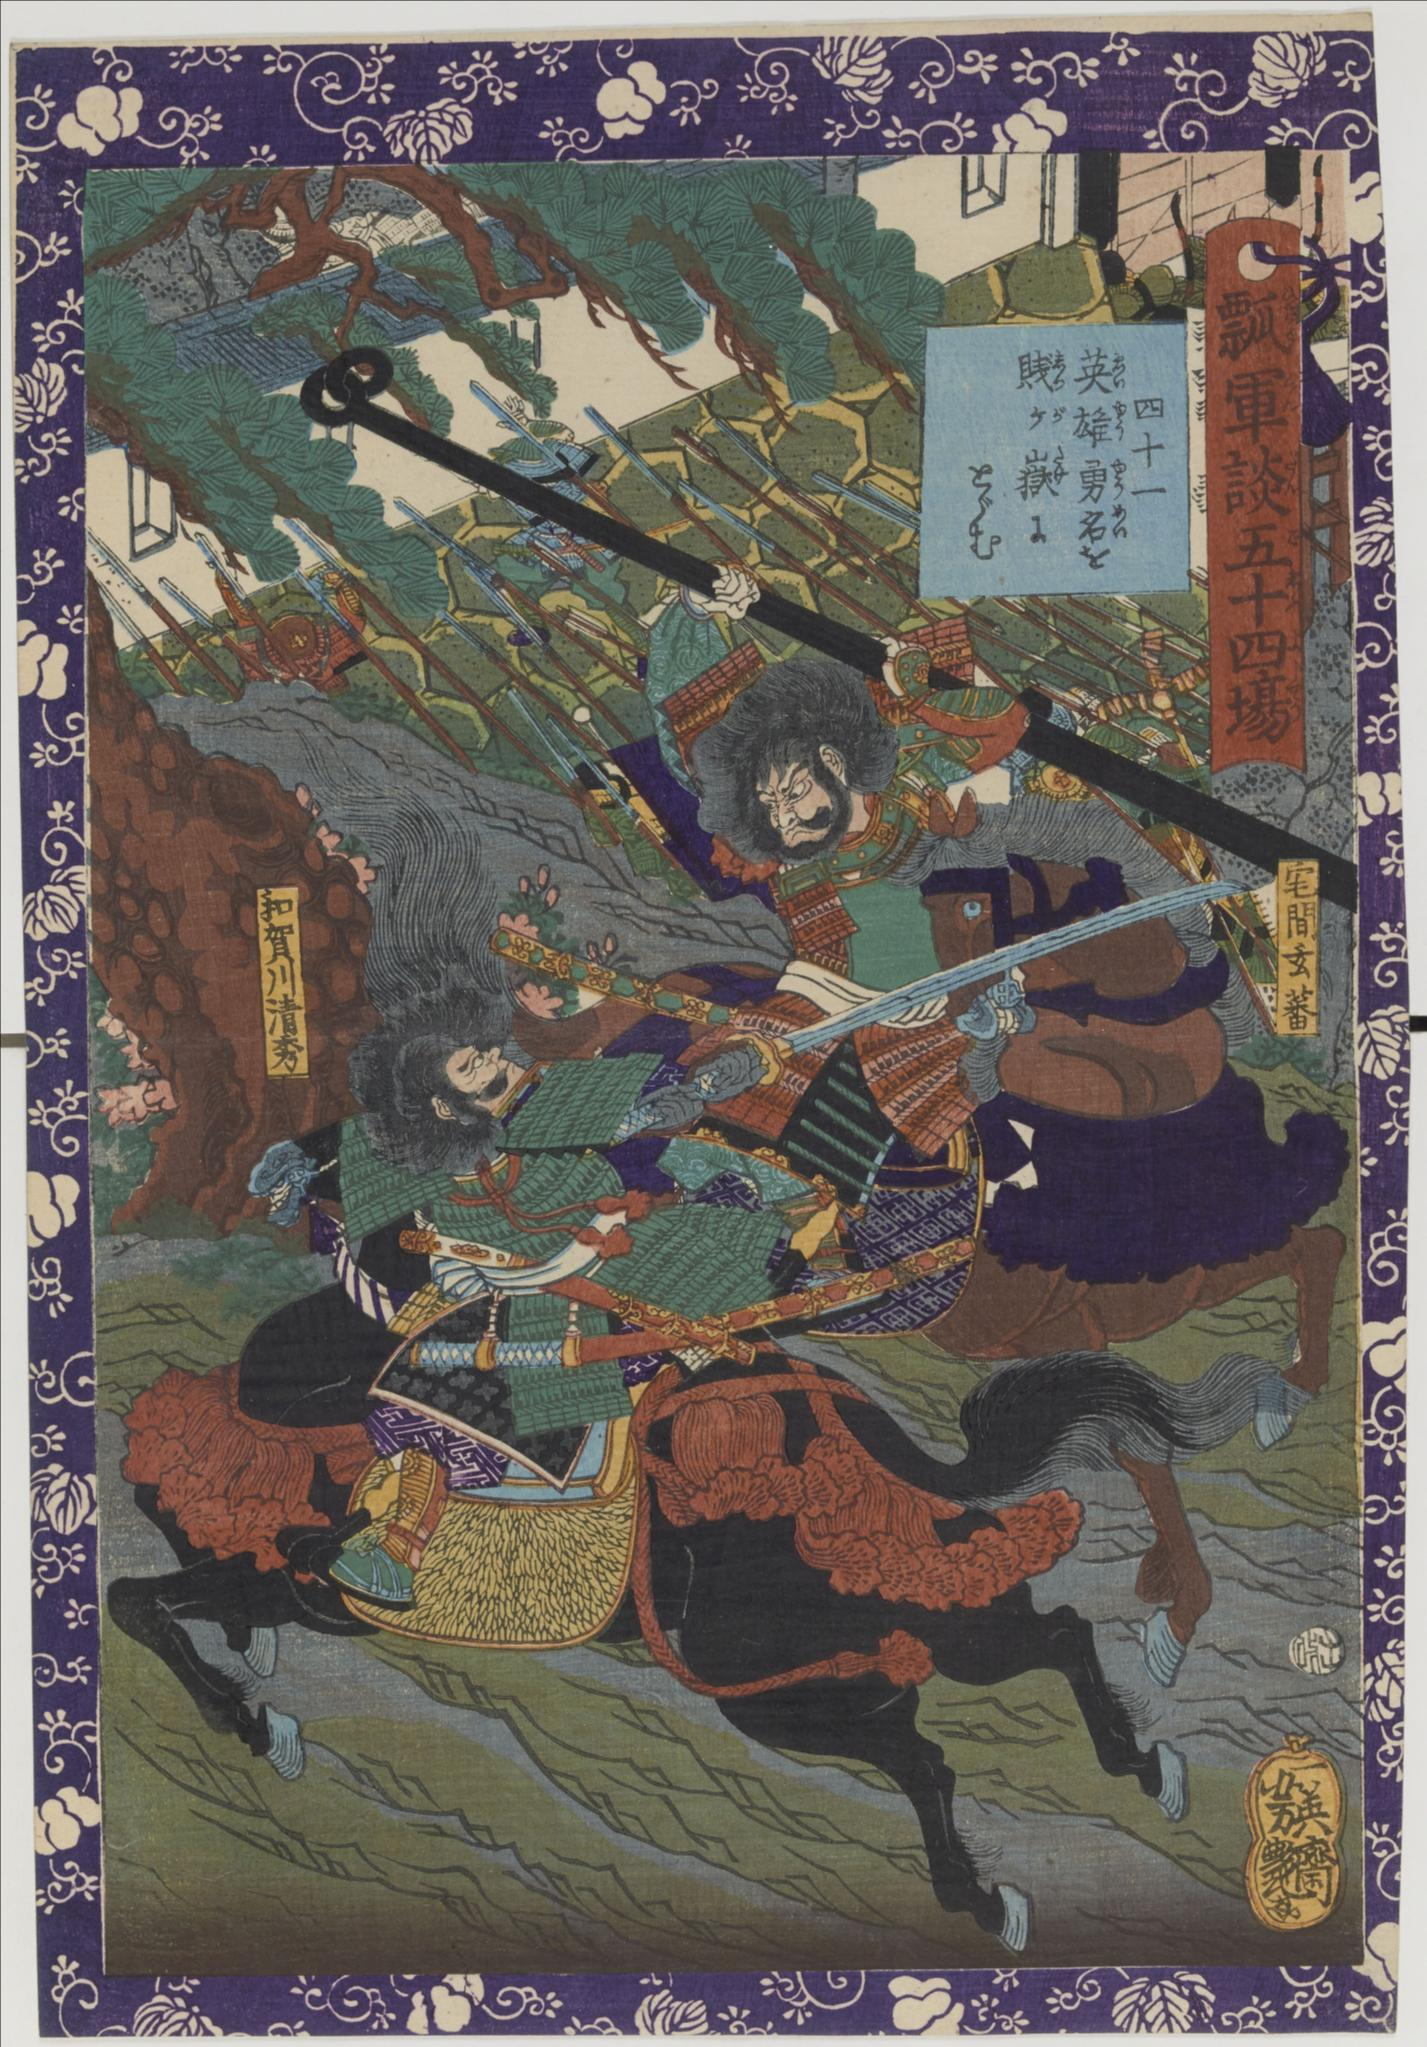MainZone-Character: (1211, 283, 1304, 372), (1223, 661, 1307, 751), (1212, 366, 1303, 443), (1217, 445, 1304, 520), (1223, 568, 1306, 624), (1220, 518, 1301, 571), (1220, 624, 1303, 669), (1015, 442, 1072, 504), (1008, 345, 1069, 392), (1072, 347, 1130, 395), (1071, 400, 1128, 446), (1072, 456, 1128, 499), (1074, 504, 1134, 543), (1016, 392, 1068, 437)
MainZone-Ruby: (1281, 283, 1301, 355), (1284, 661, 1304, 730), (1279, 445, 1301, 504), (1282, 568, 1304, 621), (1281, 369, 1301, 418), (1049, 443, 1069, 488), (1110, 504, 1133, 543), (1110, 456, 1128, 502), (1111, 397, 1128, 443), (1111, 350, 1130, 392), (1052, 348, 1068, 392), (1284, 523, 1303, 552), (1047, 400, 1066, 429), (1284, 628, 1303, 653)
